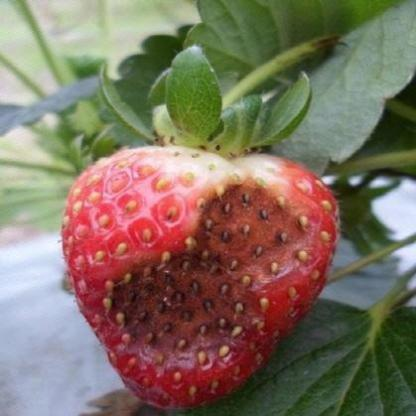Strawberry_Anthracnose_Fruit_Rot: (79, 174, 326, 378)
